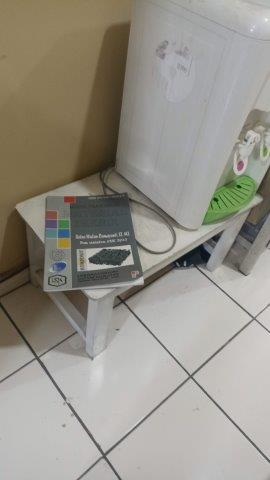kertas: (41, 192, 144, 294)
